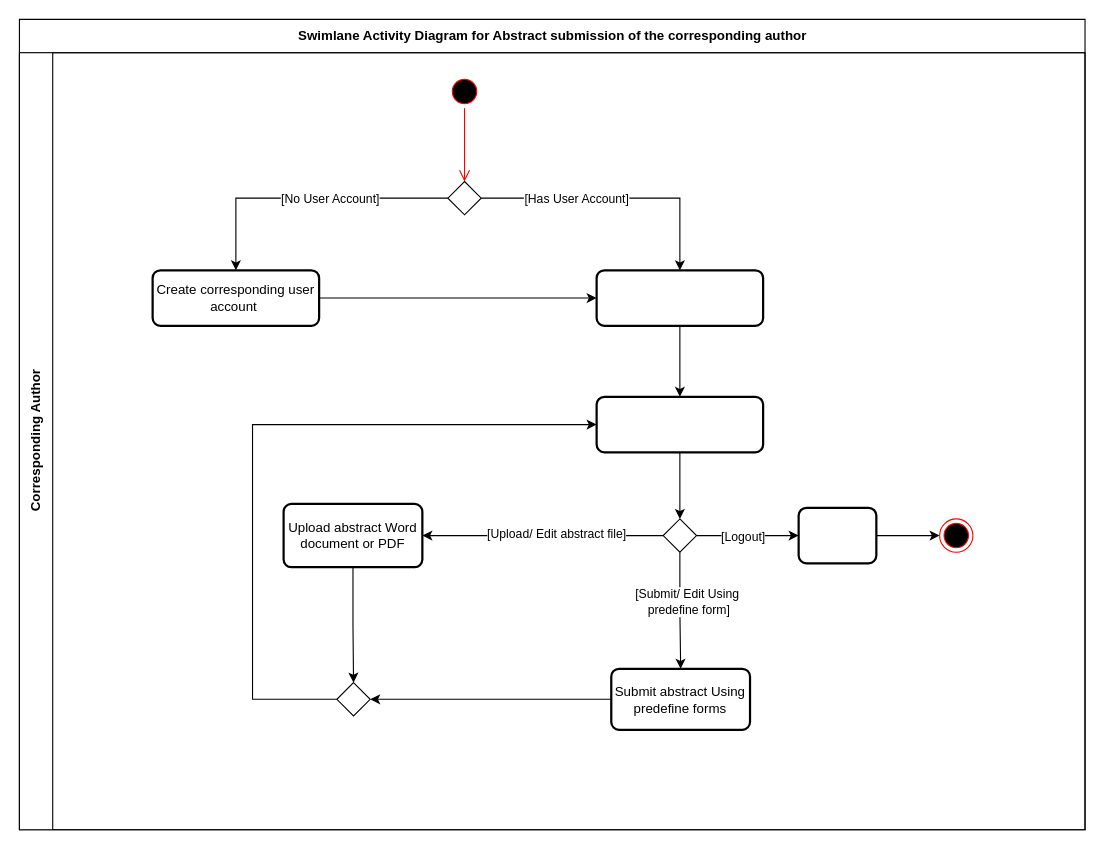
The diagram is 1104 pixels wide and 849 high, and some of its shapes have lost their labels. Here are the shapes that lost their labels. From the top down, the box of each, then its label:
(595, 269, 764, 326): Login via using the Credentials
(595, 395, 764, 453): View Dashboard
(797, 506, 877, 564): Logout
